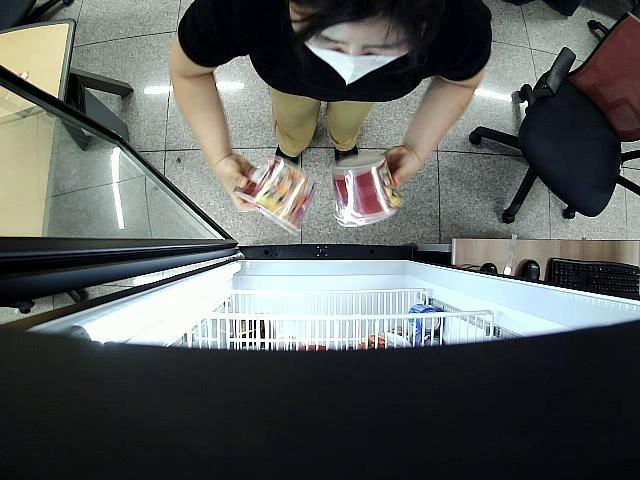05_nuguri_L: (234, 156, 316, 236), (331, 153, 406, 229)
